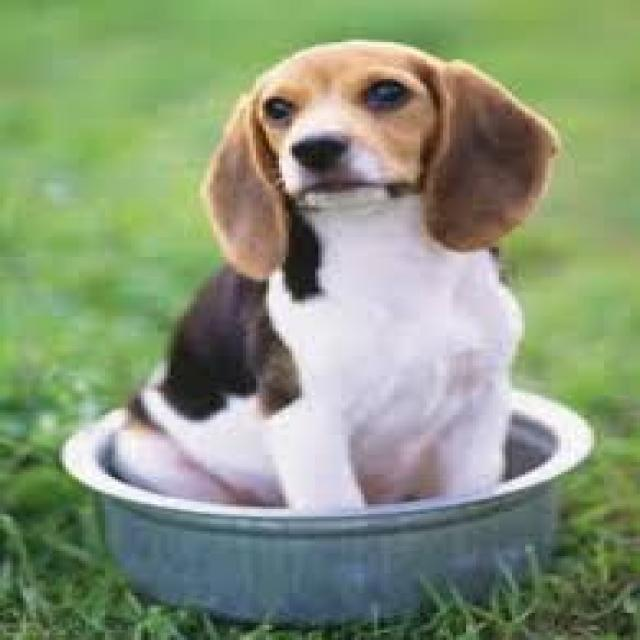Dog: (112, 36, 568, 519)
